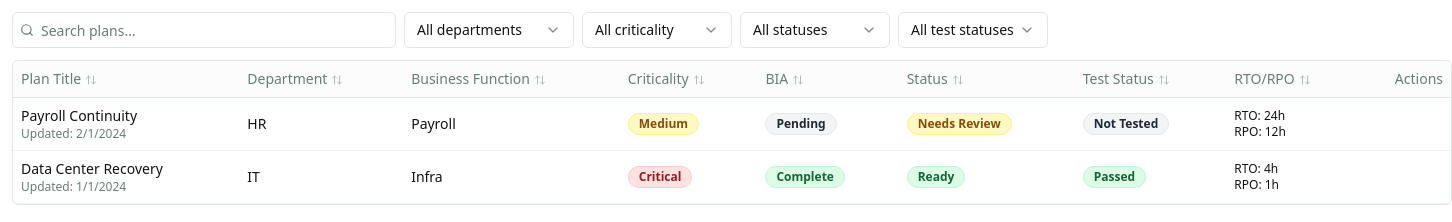
BCPTable › filters by search text
Type "payroll" into the field with placeholder "Search plans…" at point(204, 30), box [12,12,396,48]
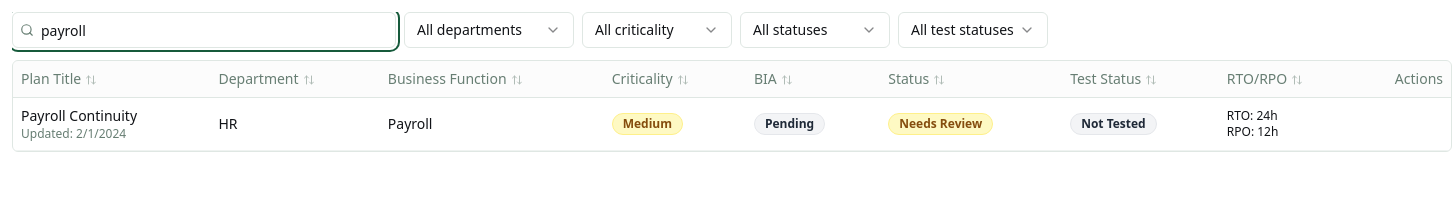
Expected: the text "Payroll Continuity" is shown, [21,106,137,125]
Now the text "Data Center Recovery" is gone
